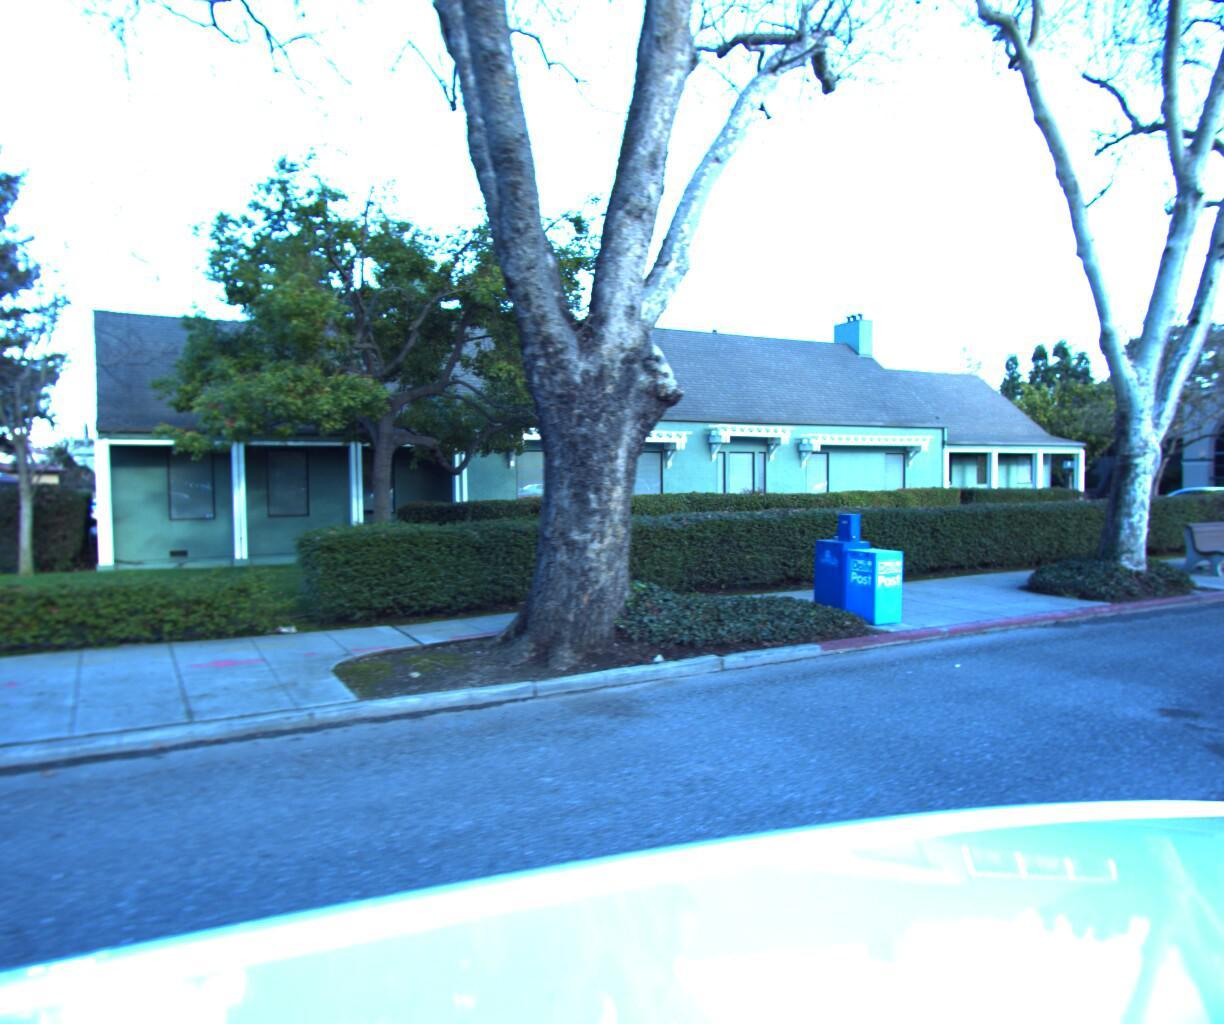car: (1141, 479, 1224, 531)
